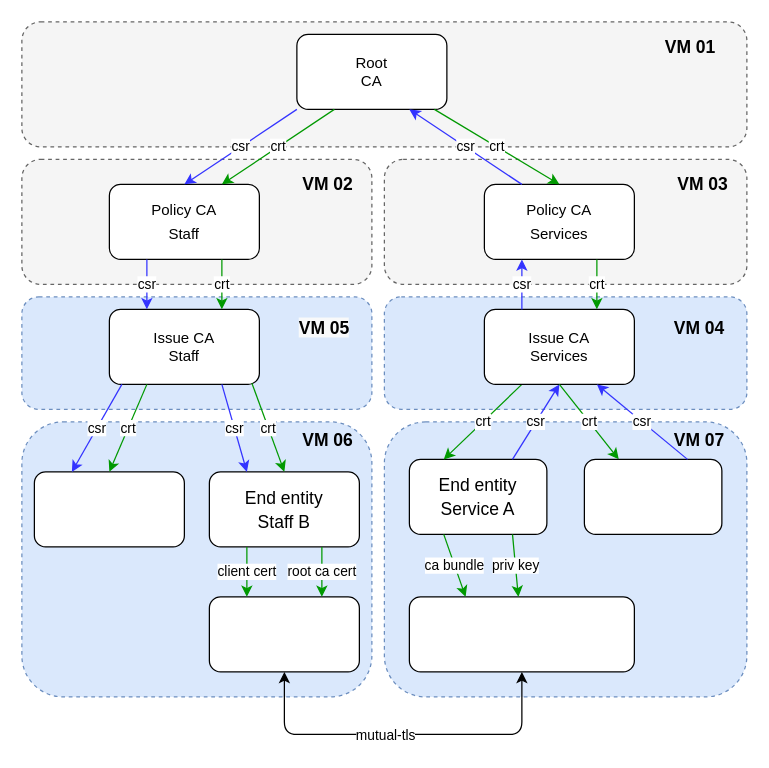
Image size: 769x768. Some labels were removed from this diagram. Each missing label, with the centre of its shape:
"End entity Service B" belongs at pixel 652 496.
"End entity Staff A" belongs at pixel 108 509.
"fake client" belongs at pixel 283 634.
"fake service https://foo.dum.my" belongs at pixel 521 634.
